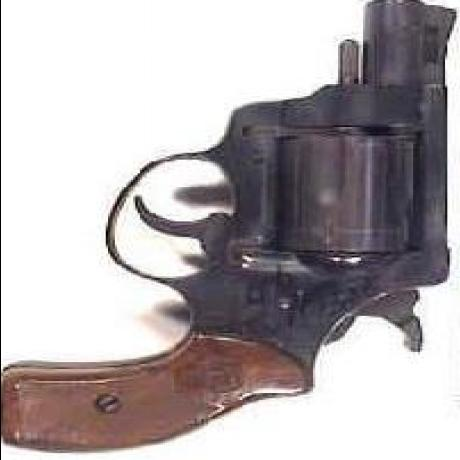weapon: (0, 0, 453, 455)
